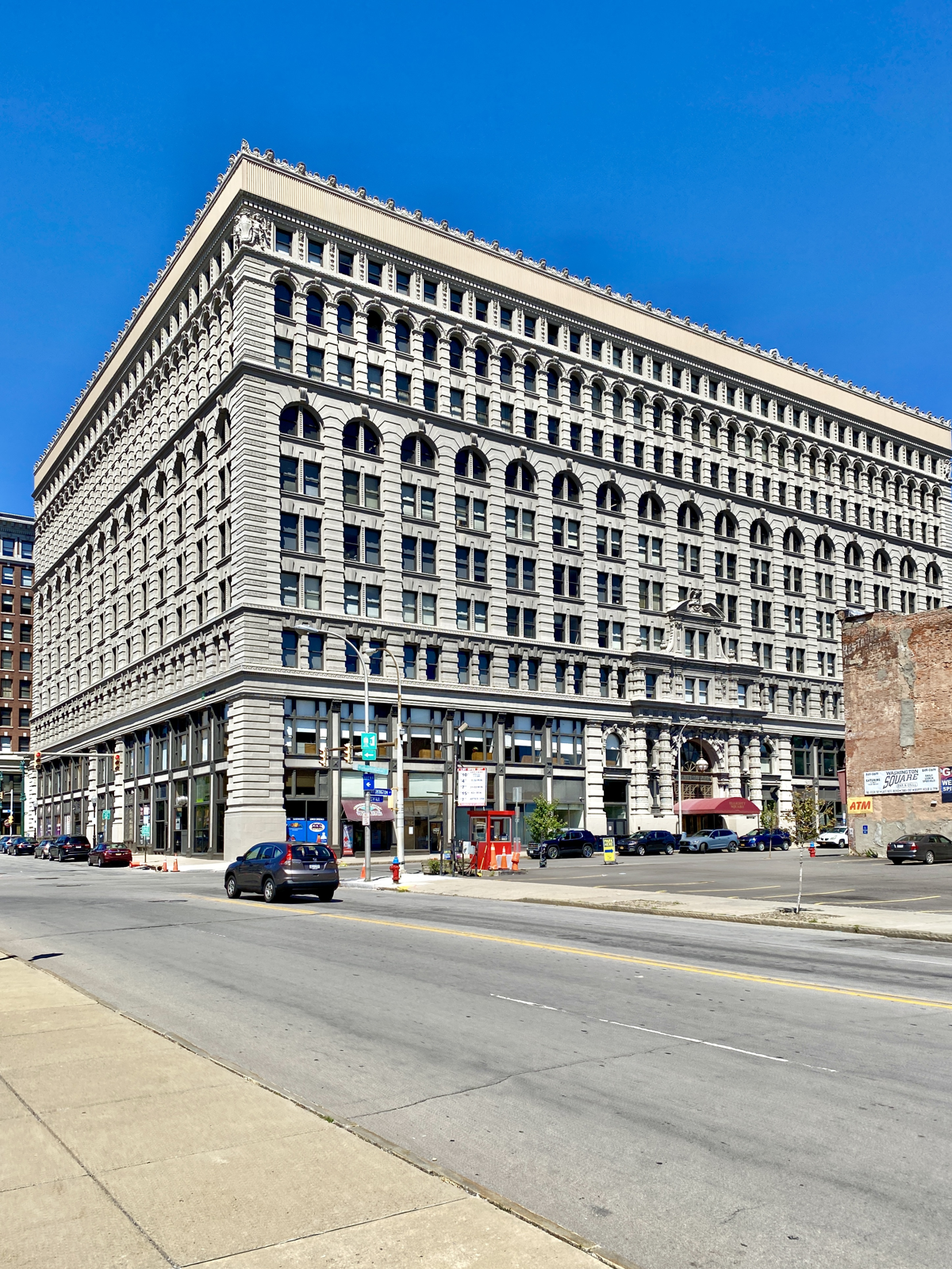fachada: (12, 151, 952, 865), (849, 603, 952, 845)
